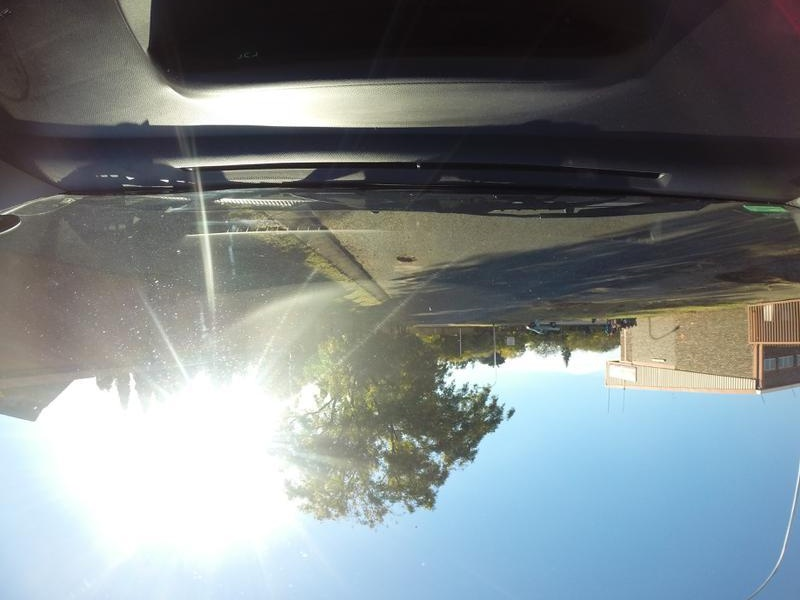pothole: (394, 254, 419, 262)
